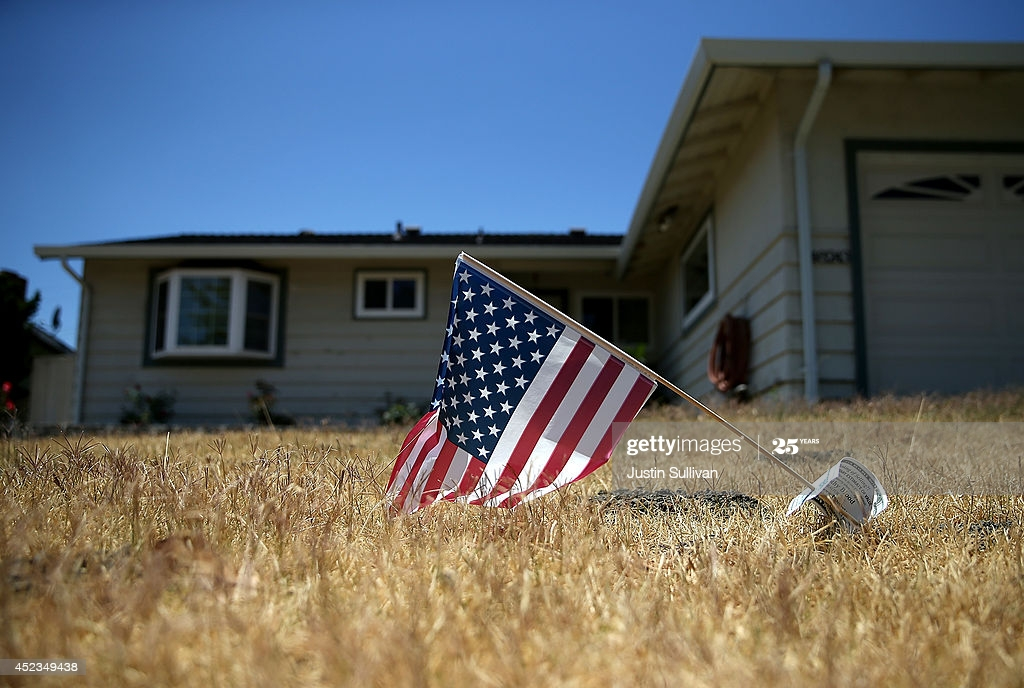Flag: (382, 253, 657, 509)
